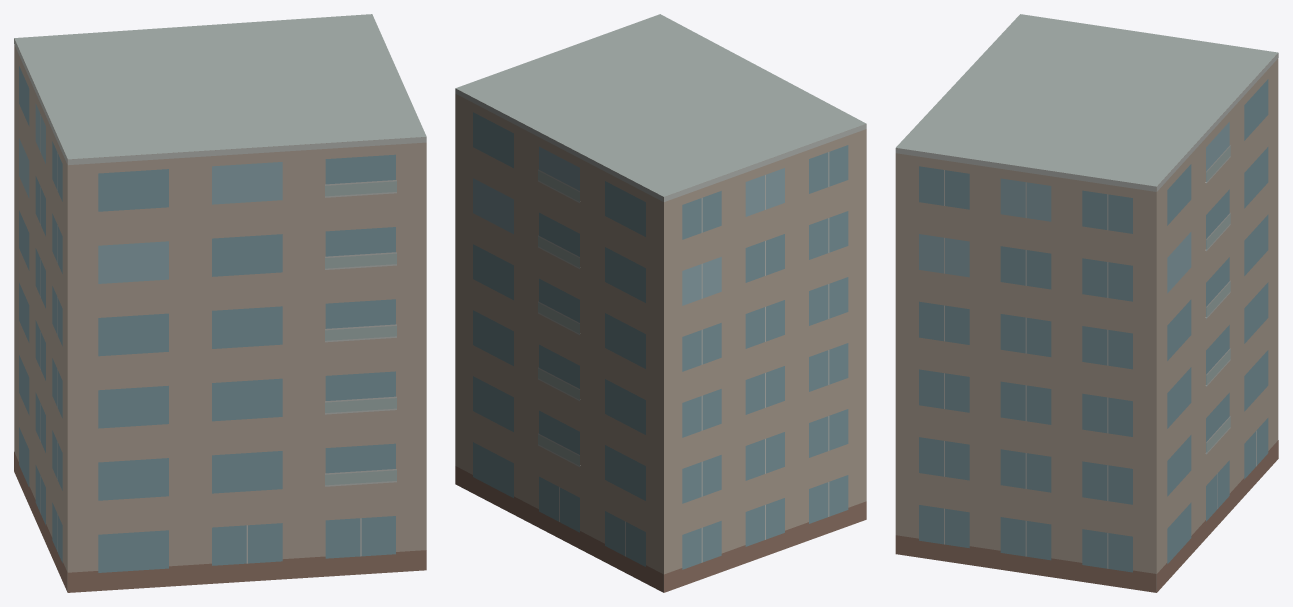
File: survey-upis-32884109.glb
3 renders of one model, left to right at view 1: azimuth 30°, elevation 25°; view 2: azimuth 150°, elevation 25°; view 3: azimuth 270°, elevation 25°, orthographic. The views are drawn at different scales.
Visible parts, largest first — view 1: survey-upis-32884109.tmp; view 2: survey-upis-32884109.tmp; view 3: survey-upis-32884109.tmp.
Part boxes in pixels (x1=…): survey-upis-32884109.tmp: x1=14, y1=14, x2=426, y2=592; survey-upis-32884109.tmp: x1=455, y1=14, x2=866, y2=592; survey-upis-32884109.tmp: x1=895, y1=14, x2=1278, y2=592.
Bounding box in the file's own units: 16.68 × 18.3 × 15.64.
